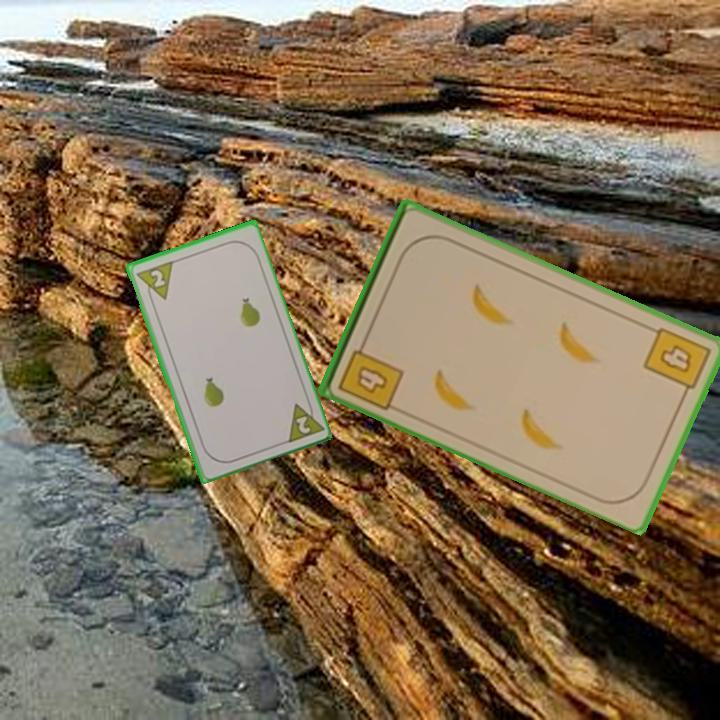2p: (132, 257, 176, 307), (282, 395, 325, 446)
4b: (639, 323, 714, 401), (334, 333, 407, 413)
